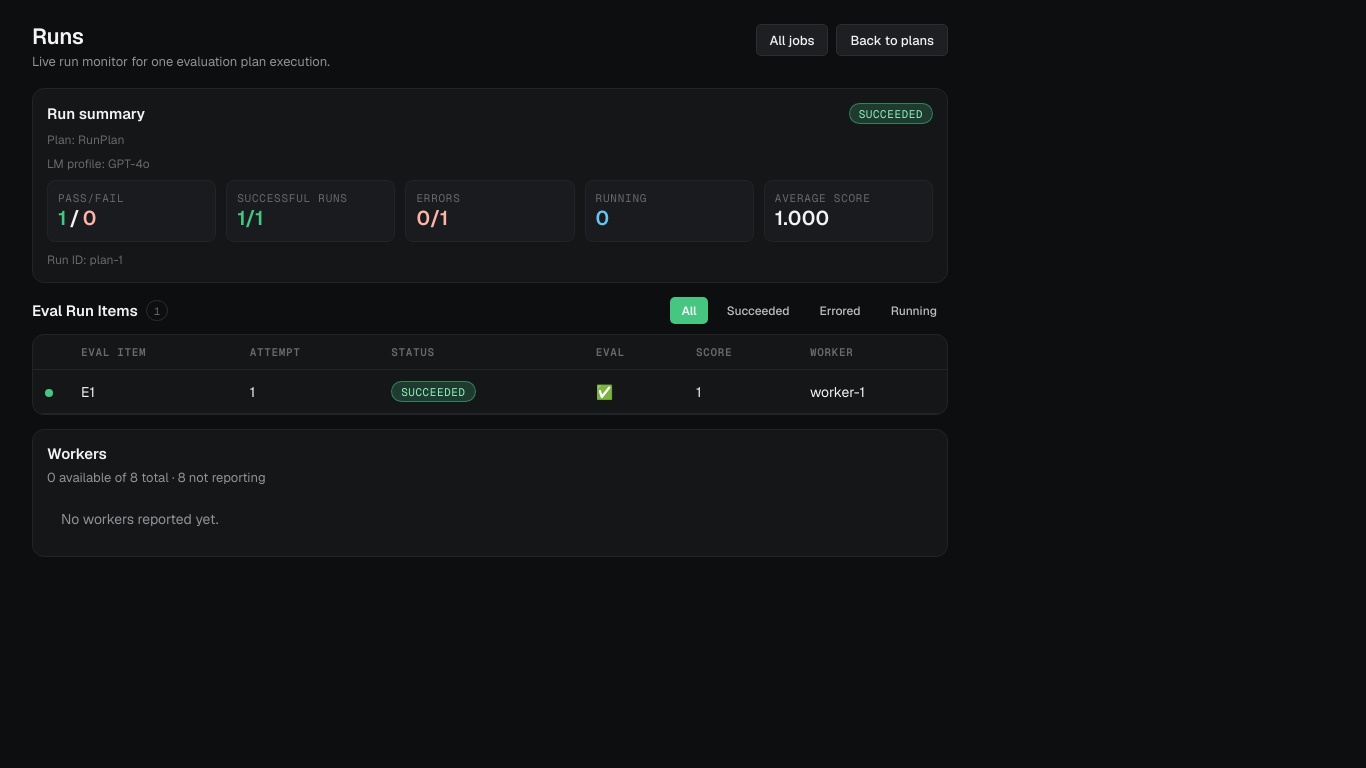
Scenario: RunsPage › renders emoji eval indicator in run item detail drawer
The image size is (1366, 768).
Step 1. Click the row "E1 1 succeeded ✅ 1 worker-1" → (490, 392), box top-left (33, 370), bottom-right (947, 414)
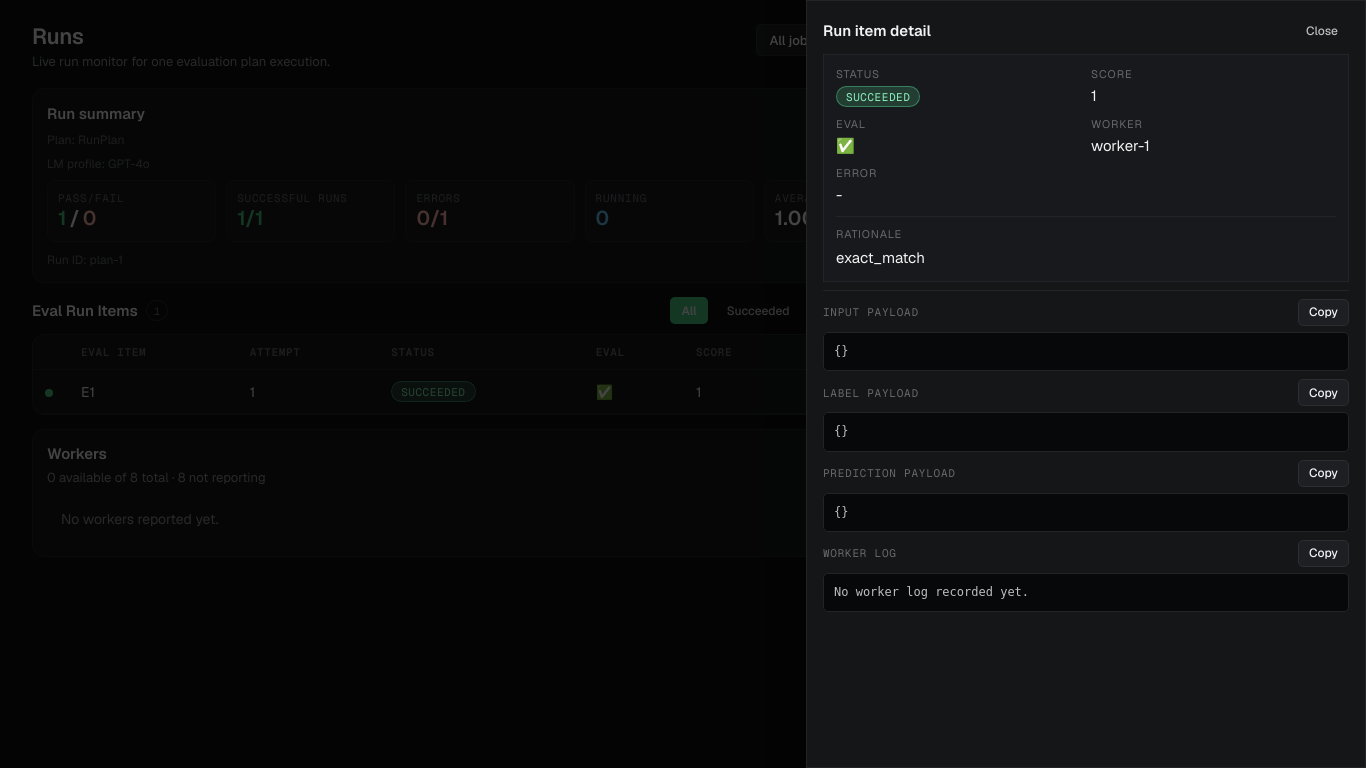
Expected: the text "✅" is shown 2 times, top-left (584, 370), bottom-right (684, 414); top-left (836, 136), bottom-right (855, 155)
Expected: the heading "Run item detail" is shown, top-left (823, 21), bottom-right (931, 40)
